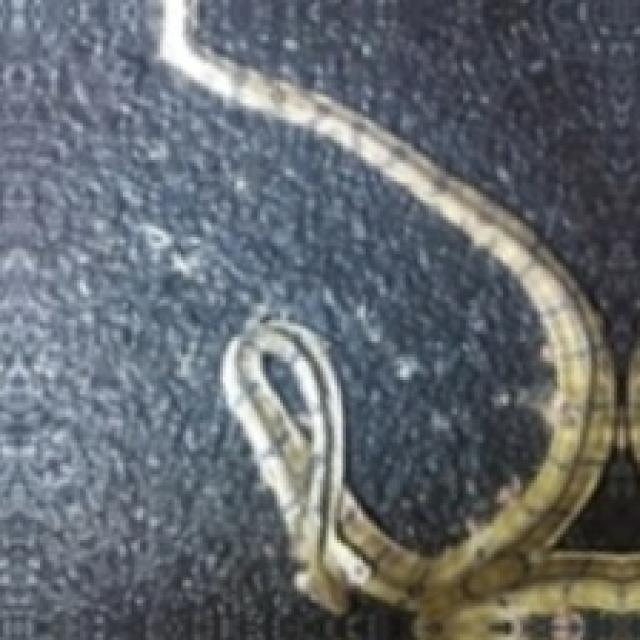dog-toothed cat snake: (157, 0, 637, 637)
